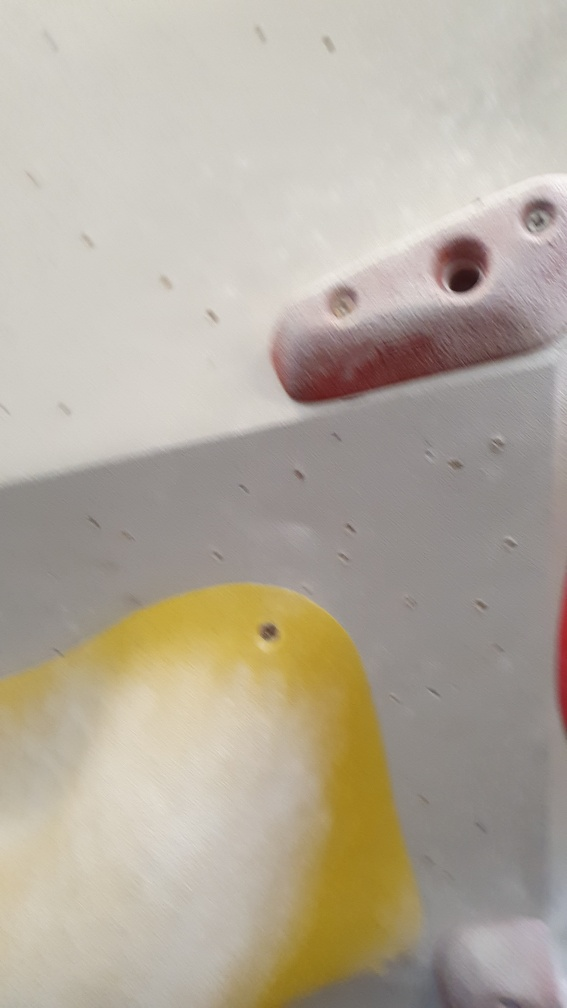Pinch: (265, 168, 567, 407)
